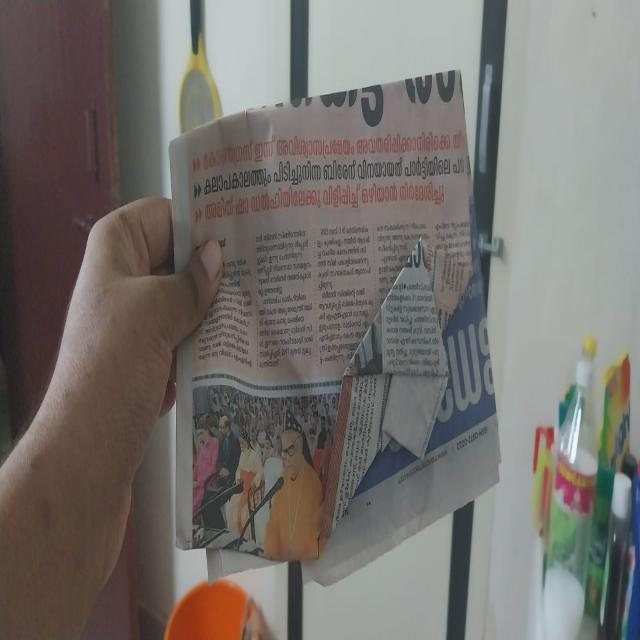Paper - Recyclable: (167, 68, 501, 586)
